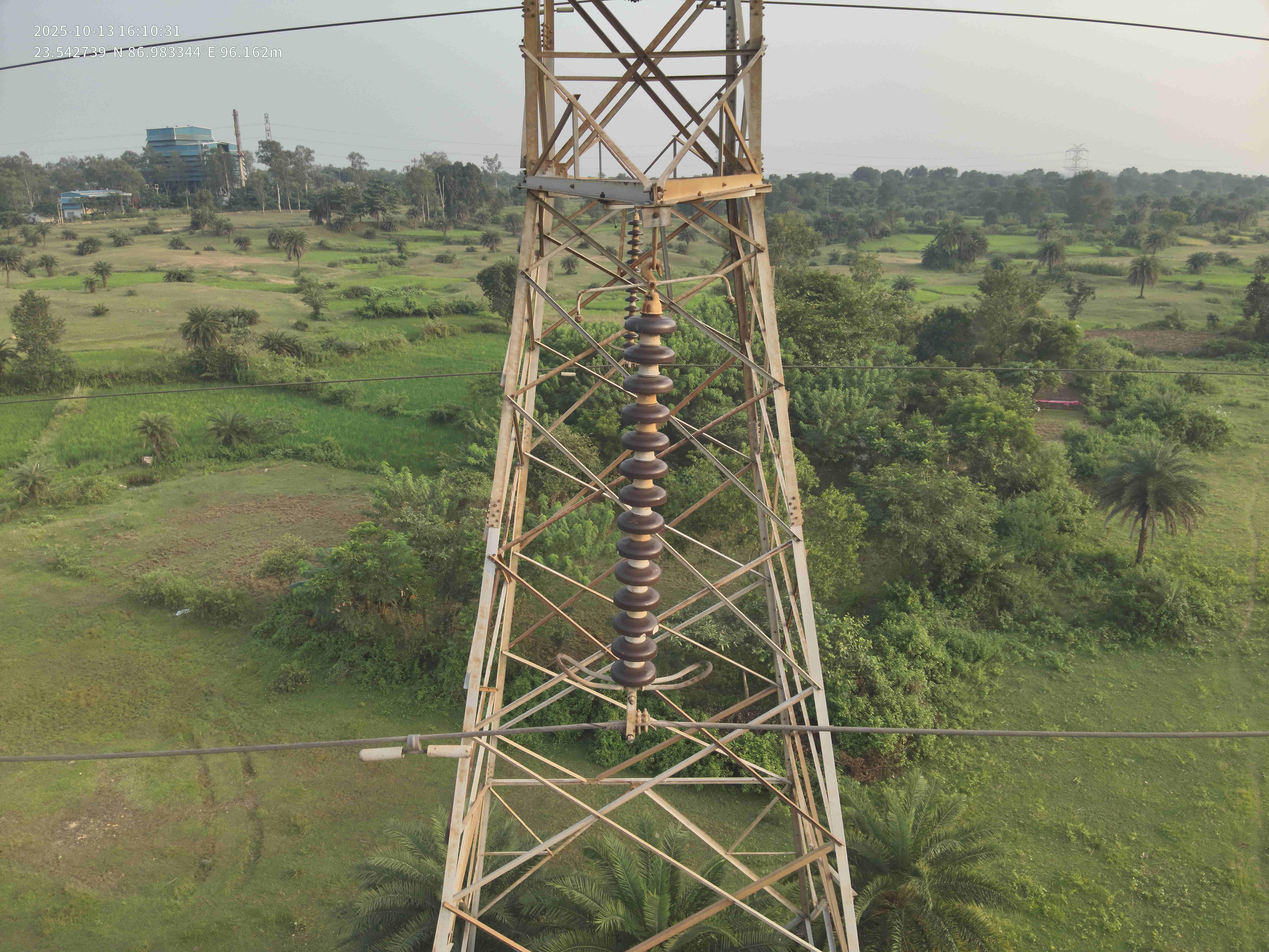broken_insulator: (612, 612, 661, 638), (625, 296, 641, 303)
